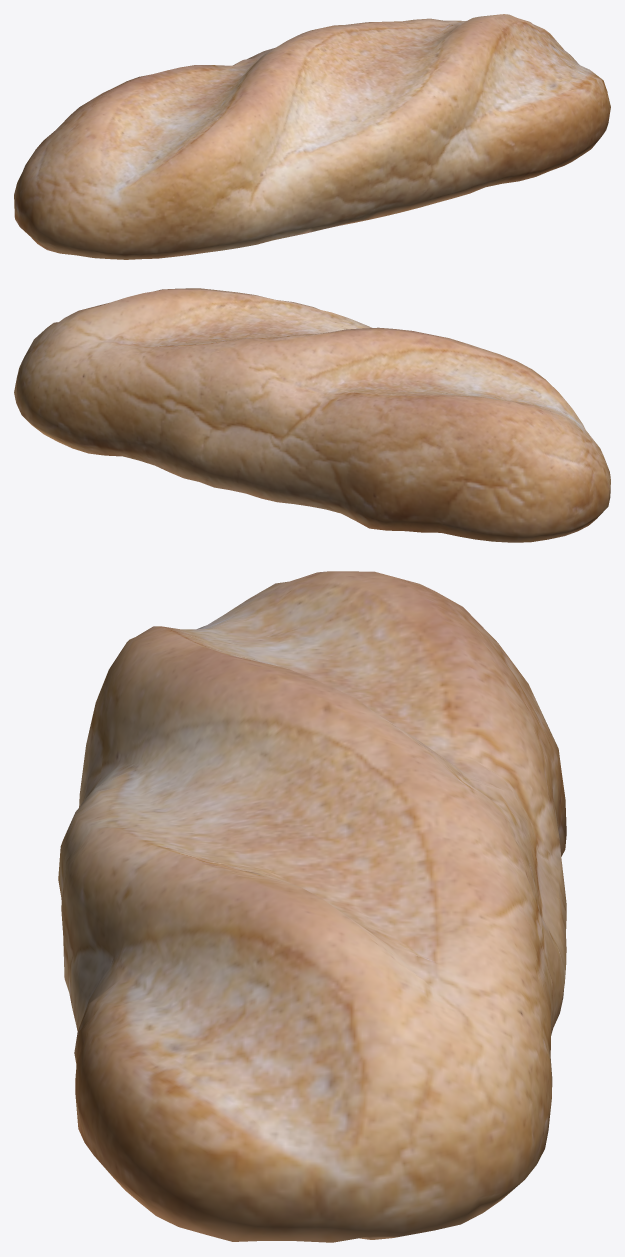
Rendered from bread-scan-f5ac20.glb.
3 views of the same model, one above another, from view 1: azimuth 30°, elevation 25°; view 2: azimuth 150°, elevation 25°; view 3: azimuth 270°, elevation 25° (orthographic). The views are drawn at different scales.
Visible parts, largest first — view 1: PropMesh; view 2: PropMesh; view 3: PropMesh.
Boxes of the visible parts, left/top/right/bottom form: PropMesh: left=14, top=14, right=610, bottom=259; PropMesh: left=14, top=288, right=610, bottom=542; PropMesh: left=58, top=571, right=566, bottom=1242.
Size of the model in its own units: 0.45 by 0.1024 by 0.1772.
1 material, 1 textured.
